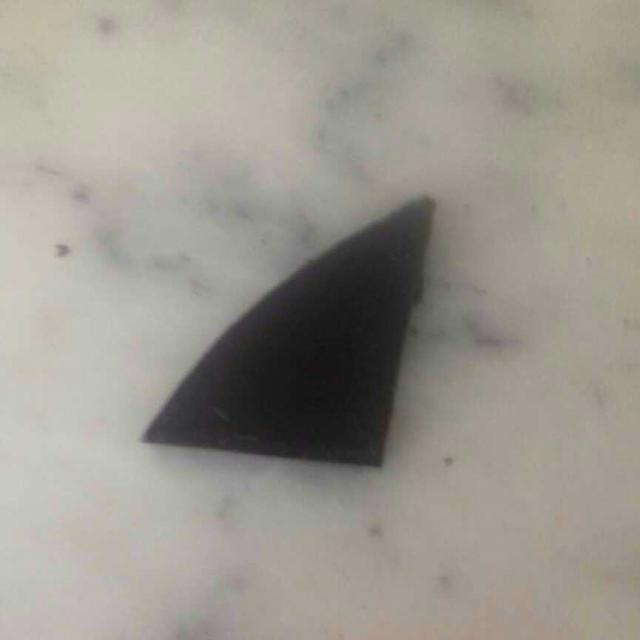chocolate: (149, 211, 421, 463)
